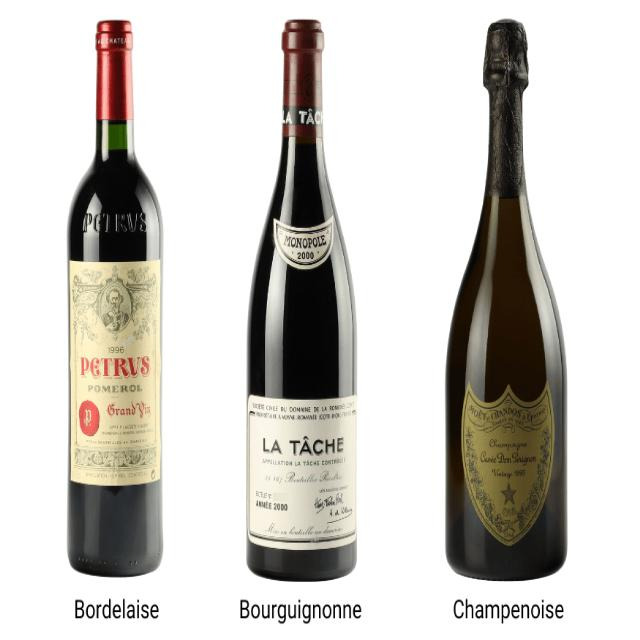Bottle: (426, 18, 582, 588), (233, 14, 362, 584), (58, 10, 169, 579)
